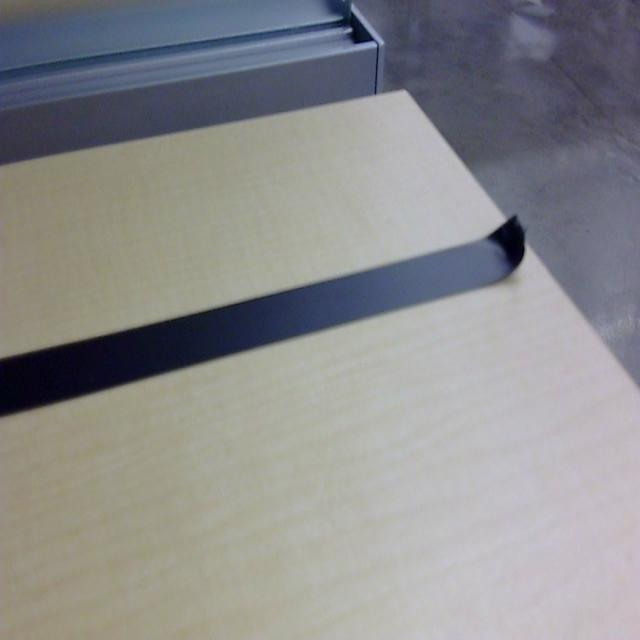tape: (0, 200, 555, 452)
